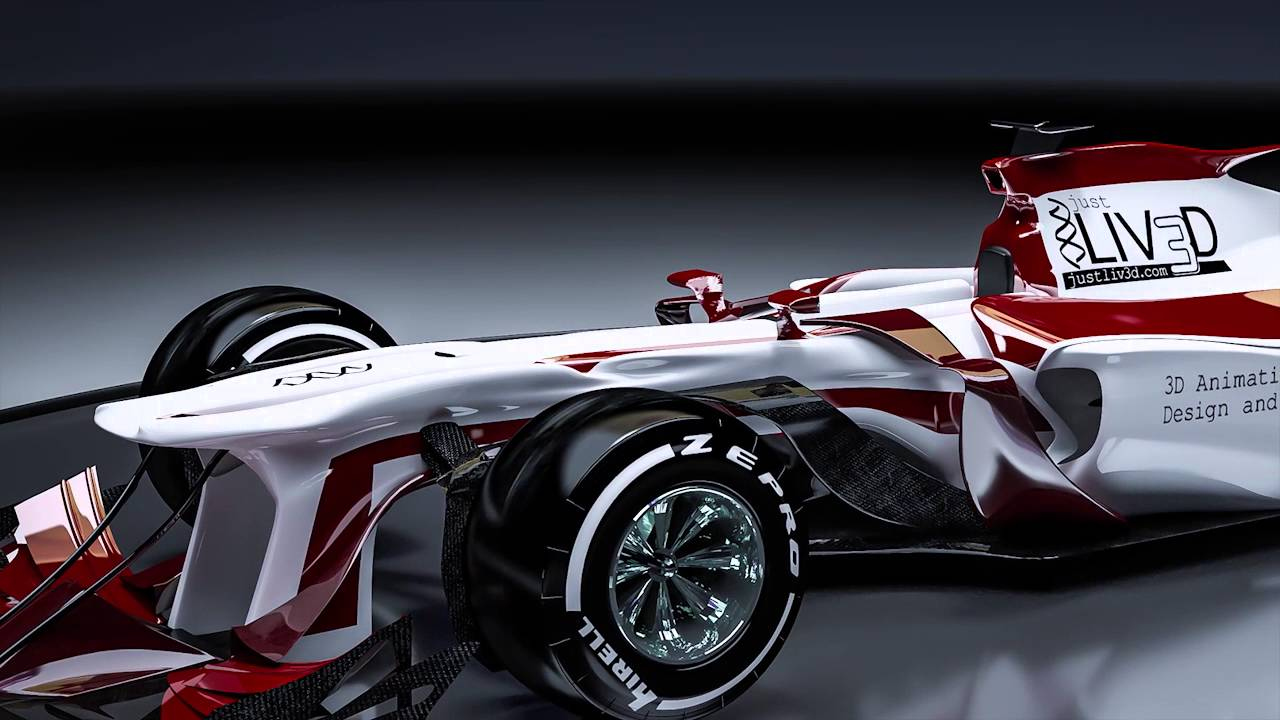f1_car: (1, 98, 1280, 717)
